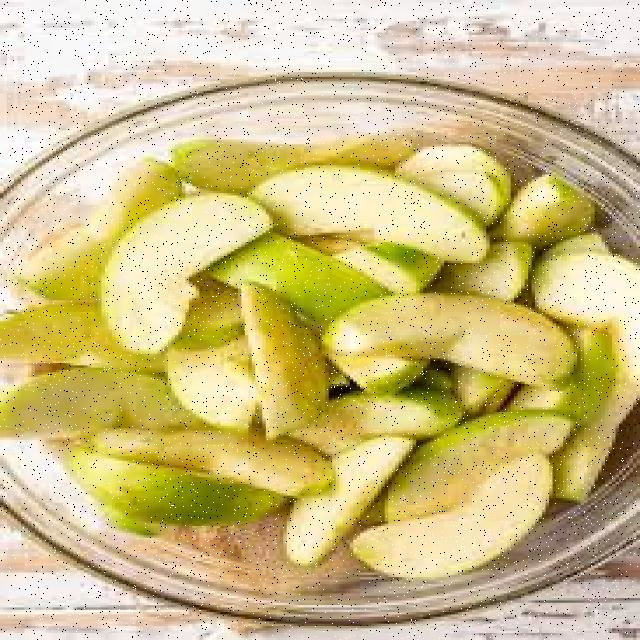Apple: (98, 190, 271, 355), (268, 429, 414, 578), (367, 463, 560, 575), (268, 160, 486, 254), (14, 157, 152, 293), (323, 296, 579, 368), (52, 454, 292, 525), (173, 130, 413, 188), (418, 408, 568, 497), (0, 370, 165, 442), (77, 431, 330, 471), (248, 280, 312, 430), (168, 324, 253, 434), (577, 255, 638, 393), (2, 308, 142, 368), (490, 187, 591, 242), (437, 249, 530, 290)
